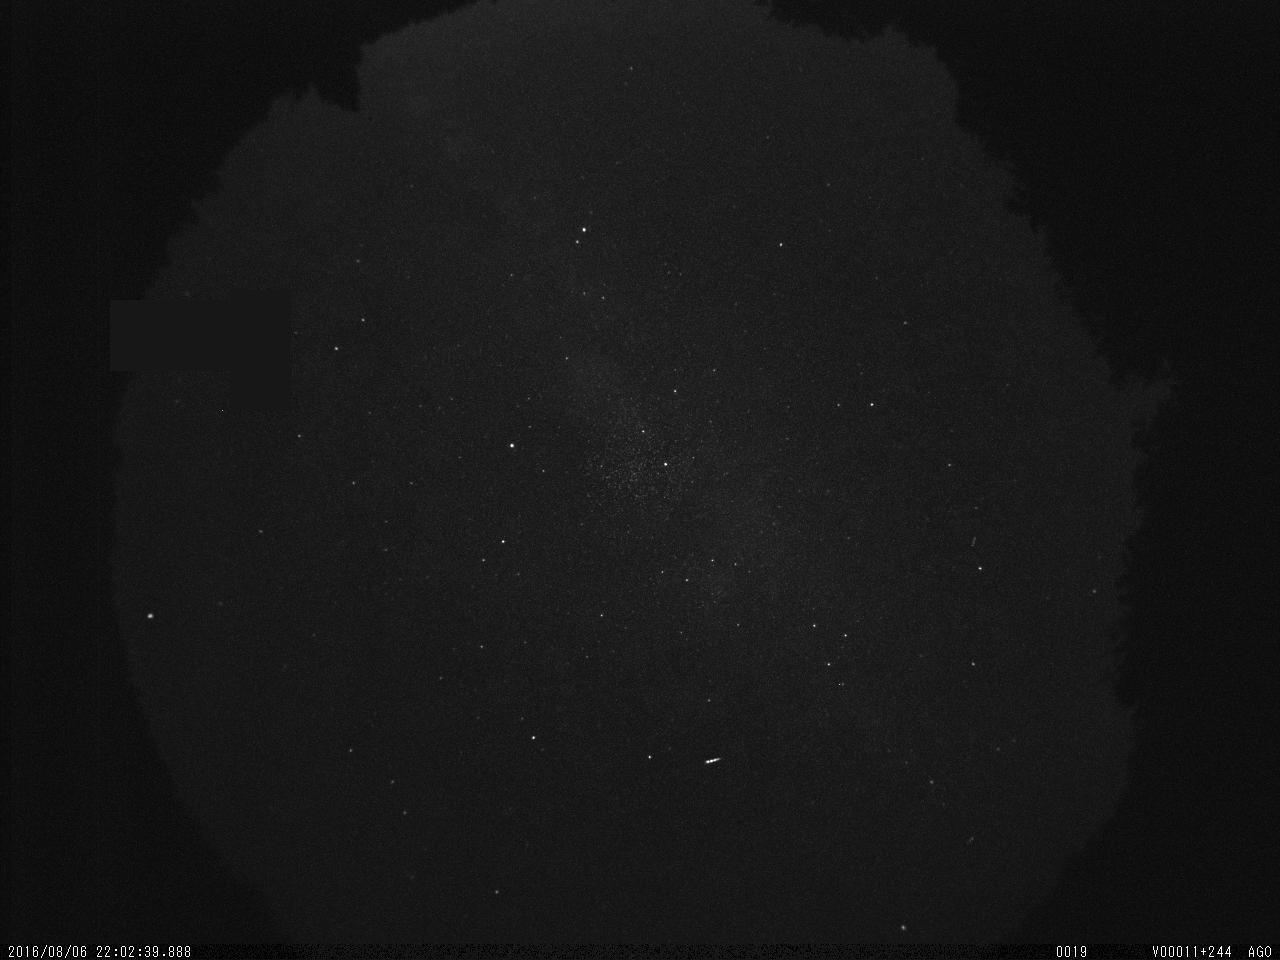meteor: (699, 750, 730, 770)
